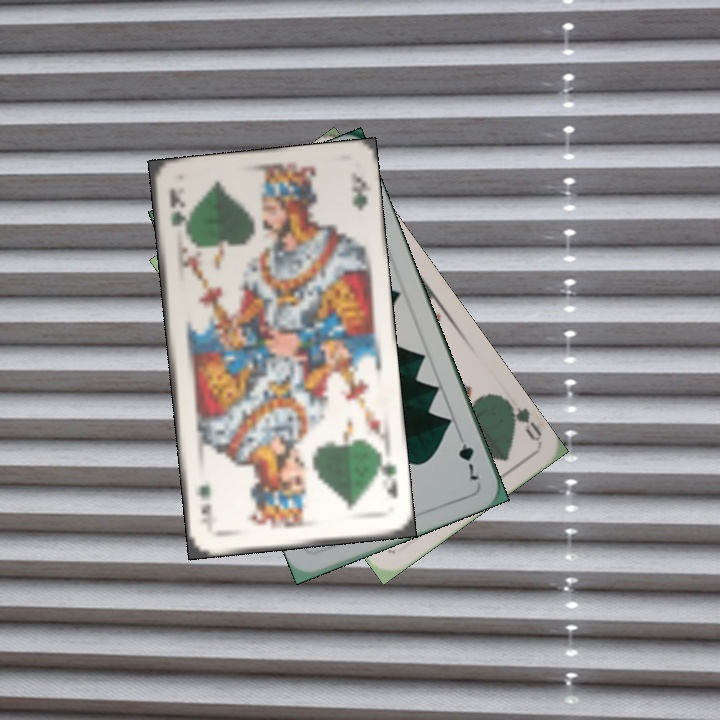G7: (453, 428, 485, 483)
GK: (165, 185, 190, 241), (373, 453, 401, 501)
GO: (499, 393, 545, 444)
